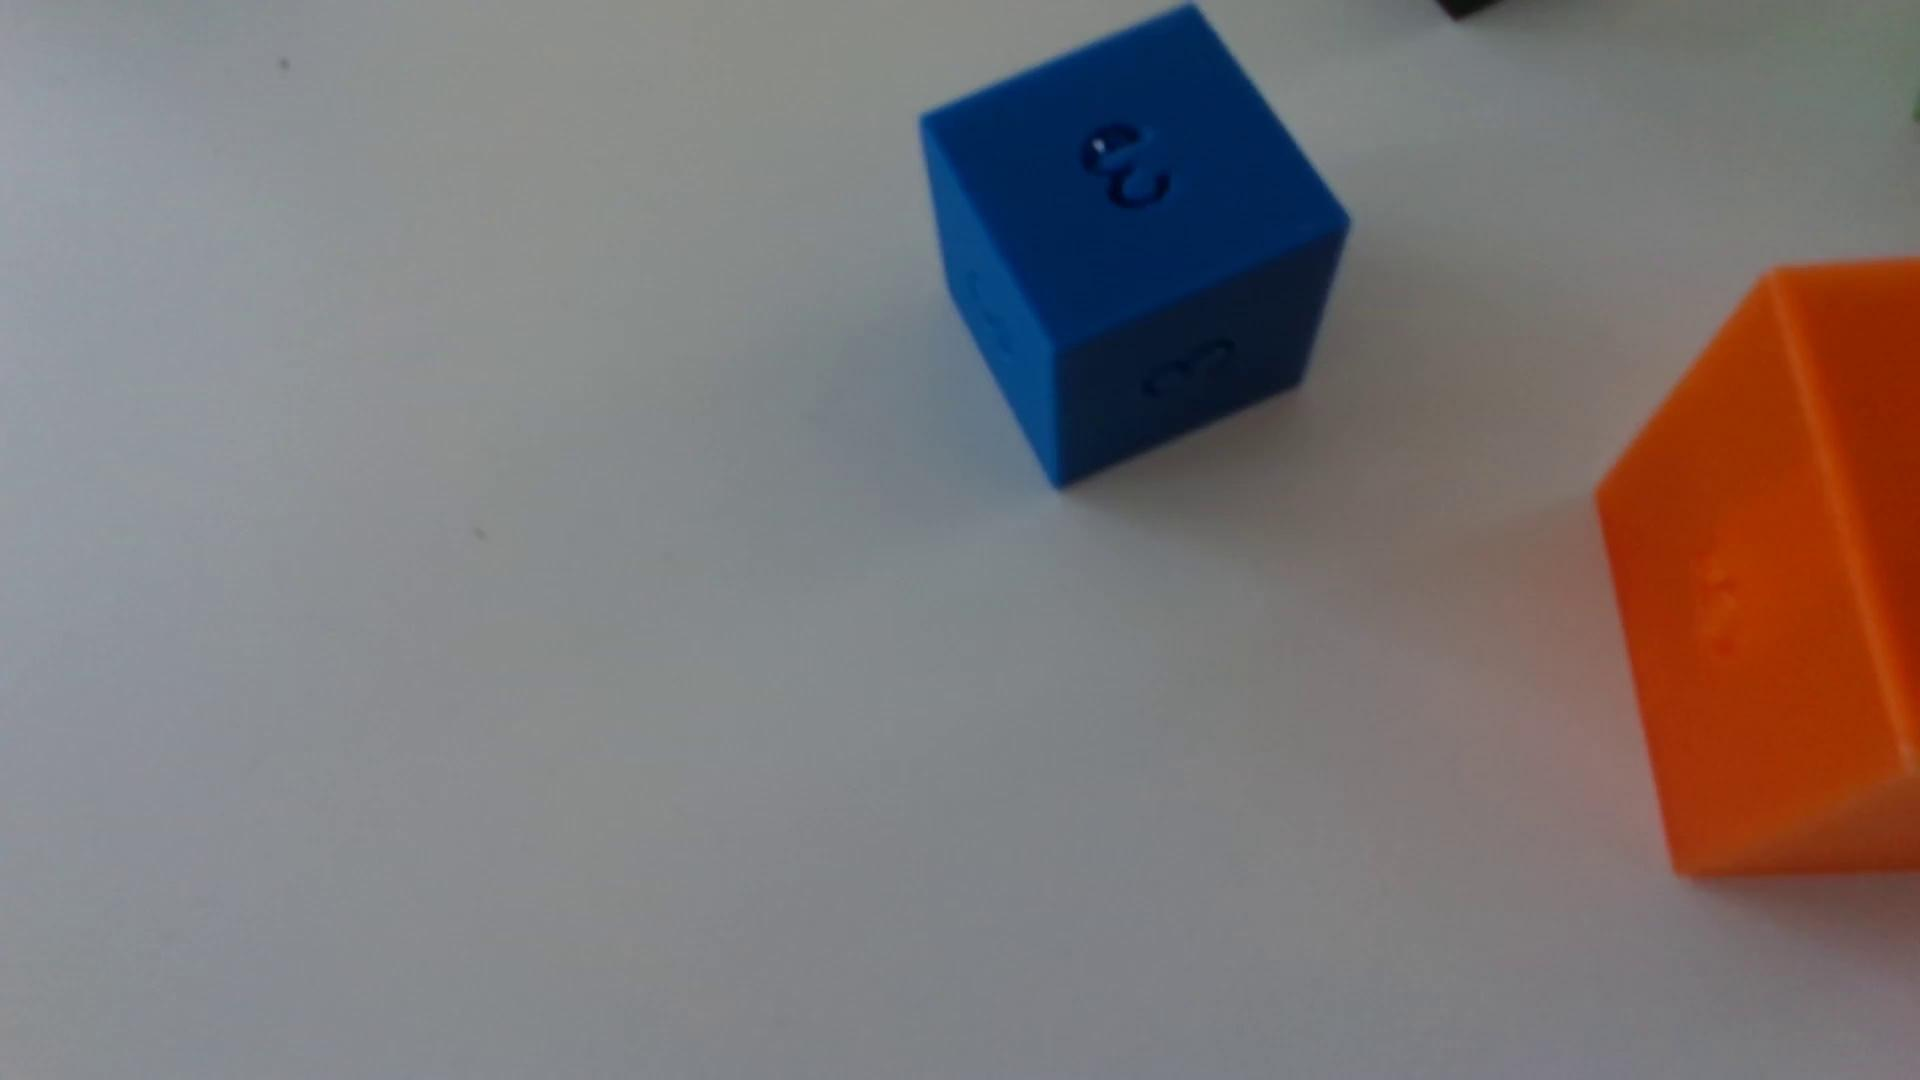black: (1433, 0, 1499, 21)
blue: (920, 7, 1349, 489)
orange: (1596, 258, 1920, 880)
